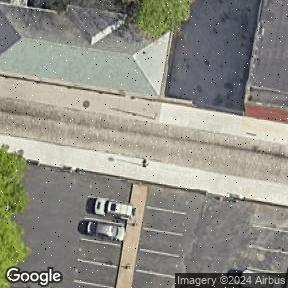vegetation: (0, 146, 29, 288)
